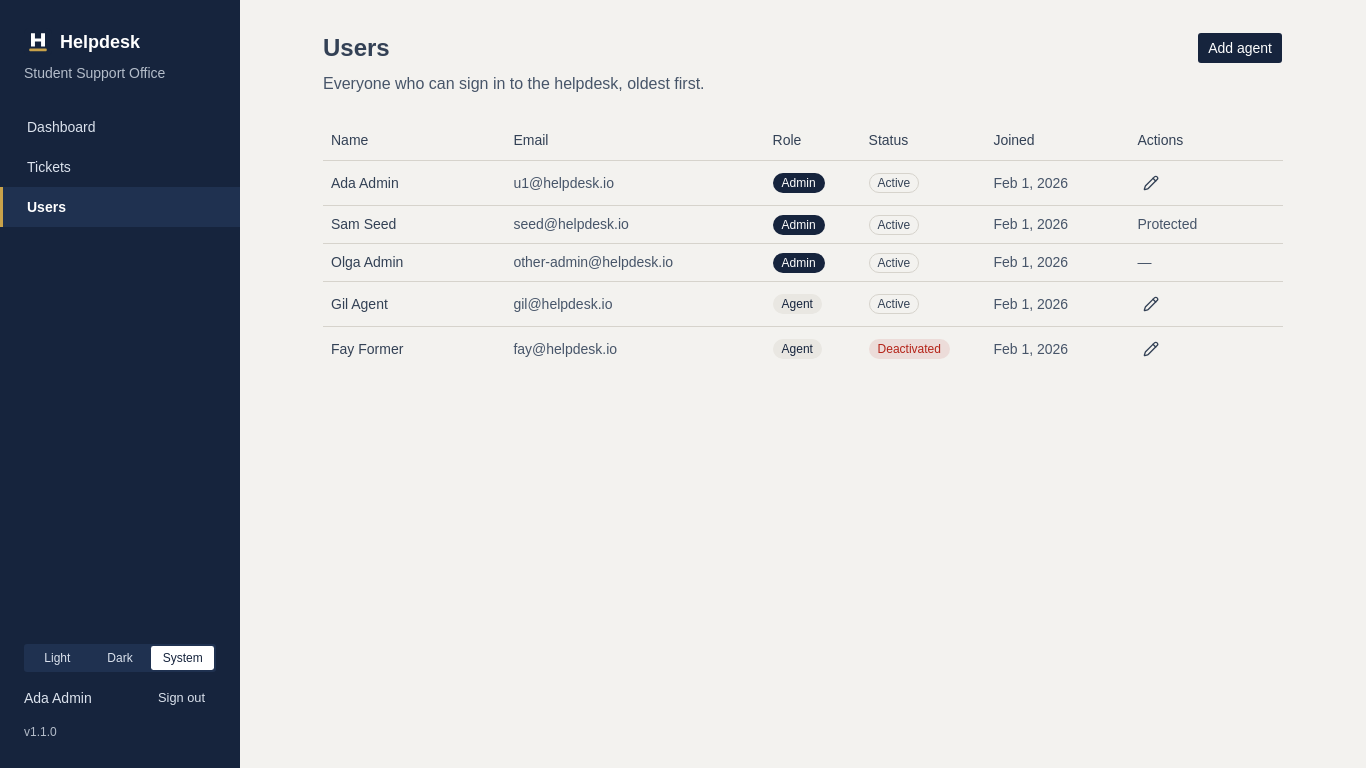
Test: saving with nothing changed sends nothing
Click the button named "Edit Gil Agent". click: (1151, 304)
box: top-left (1137, 290), bottom-right (1165, 318)
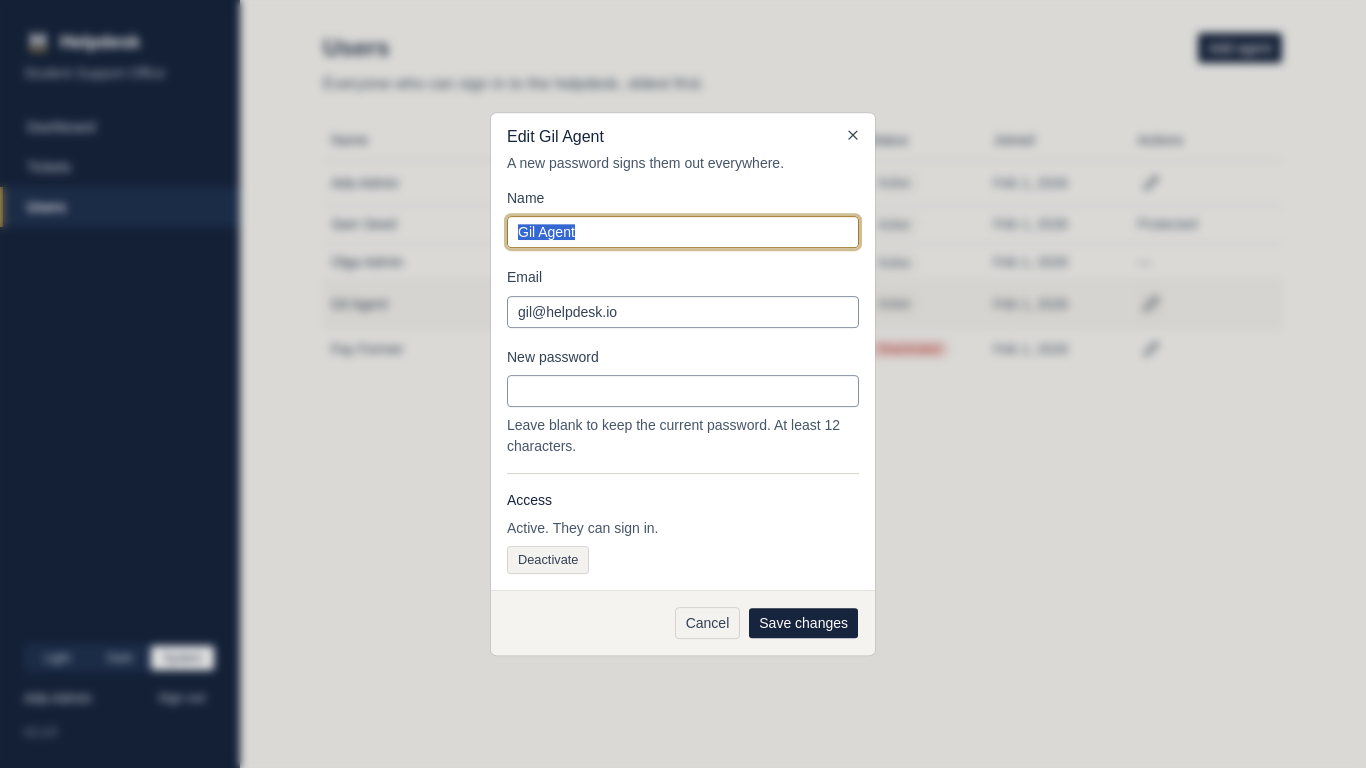
Click the button "Save changes". click: (804, 623)
box: top-left (748, 607), bottom-right (859, 639)
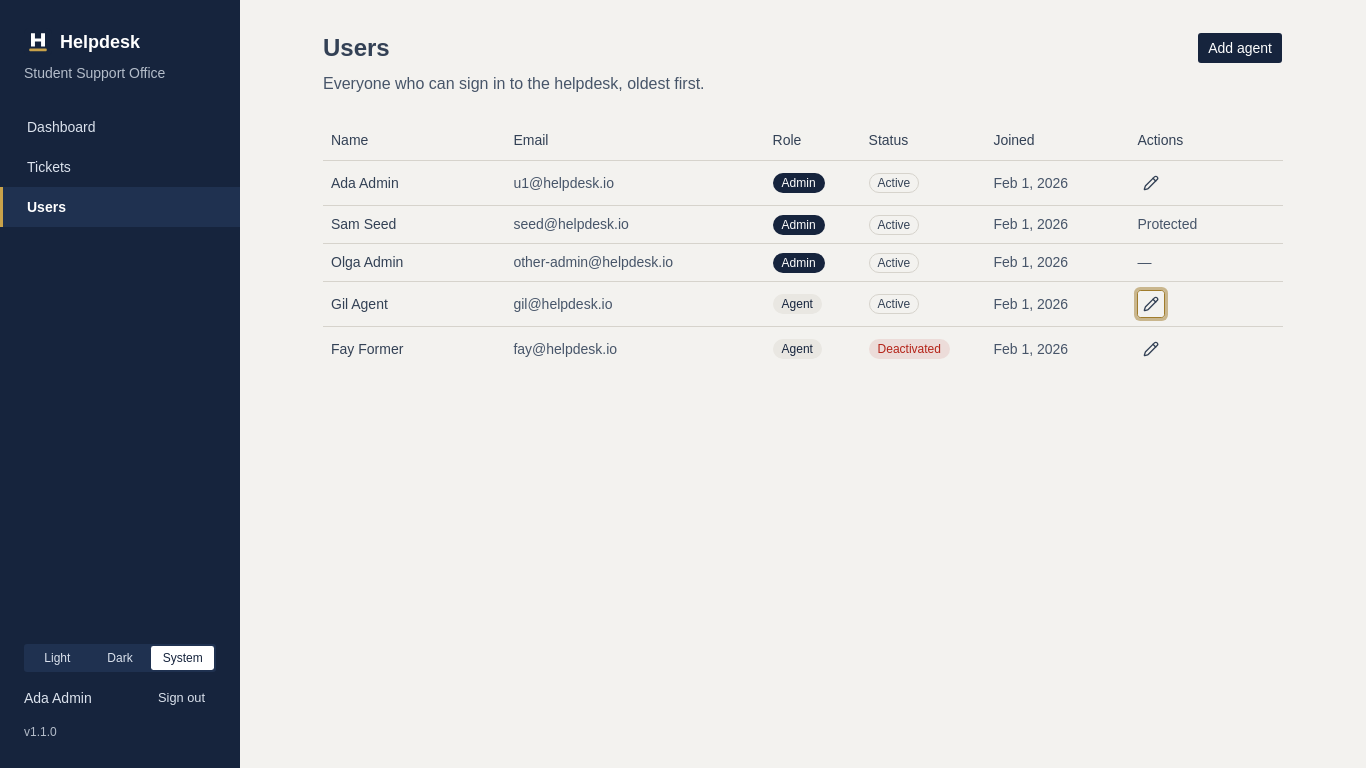
Expected: the dialog is gone
